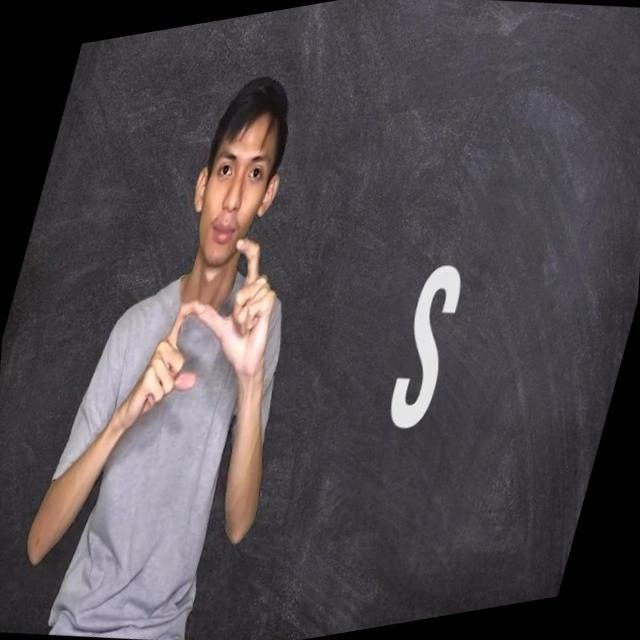S: (149, 230, 260, 402)
